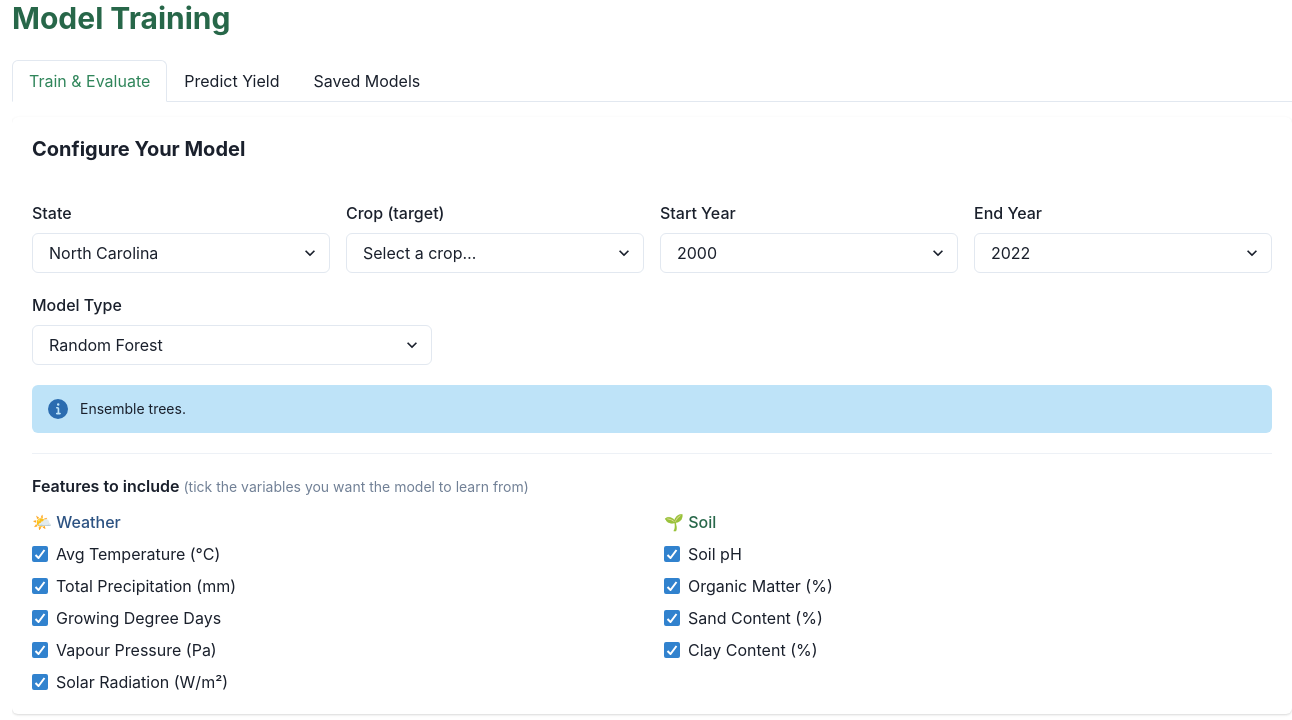
Test case: Model page – structure › shows feature importance section with feature labels
Step 1. Select "CORN" in the dropdown labelled "Crop (target)" → x=495, y=253, box x1=346 y1=233 x2=644 y2=273
(page scrolled)
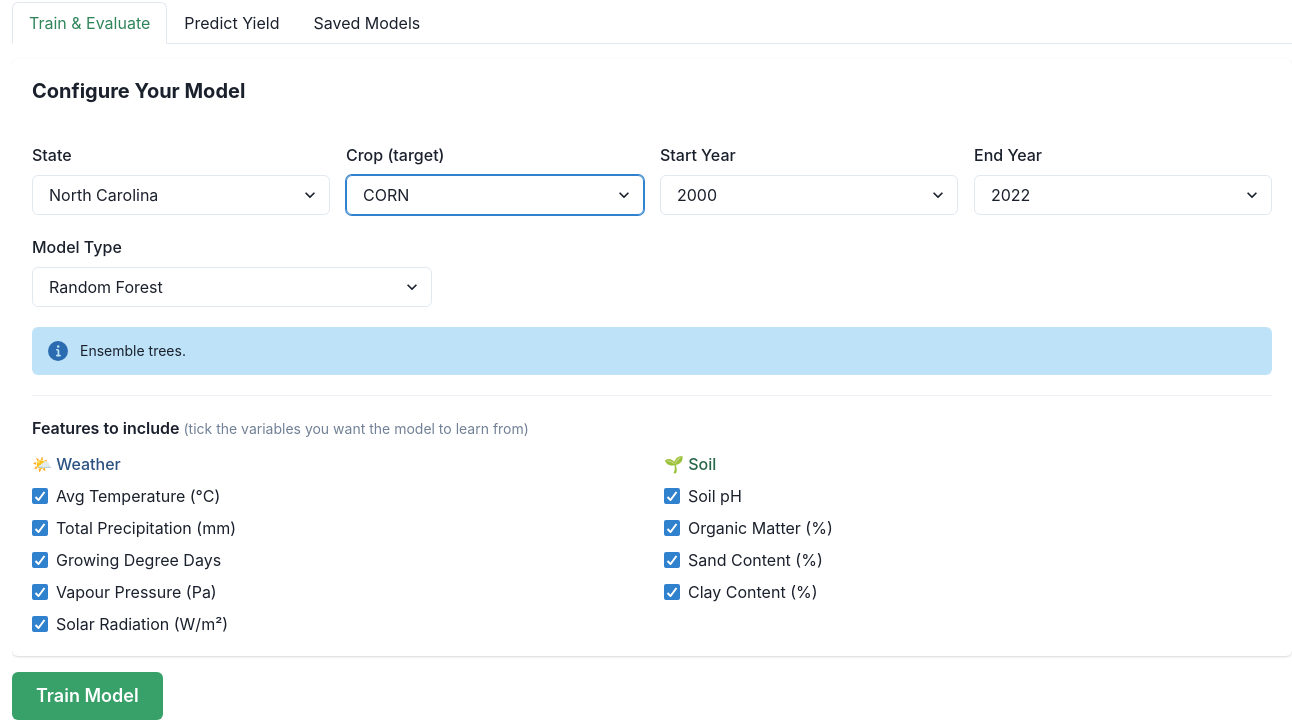
Step 2. Click the button "Train Model" → x=87, y=696, box x1=12 y1=672 x2=163 y2=719
(page scrolled)
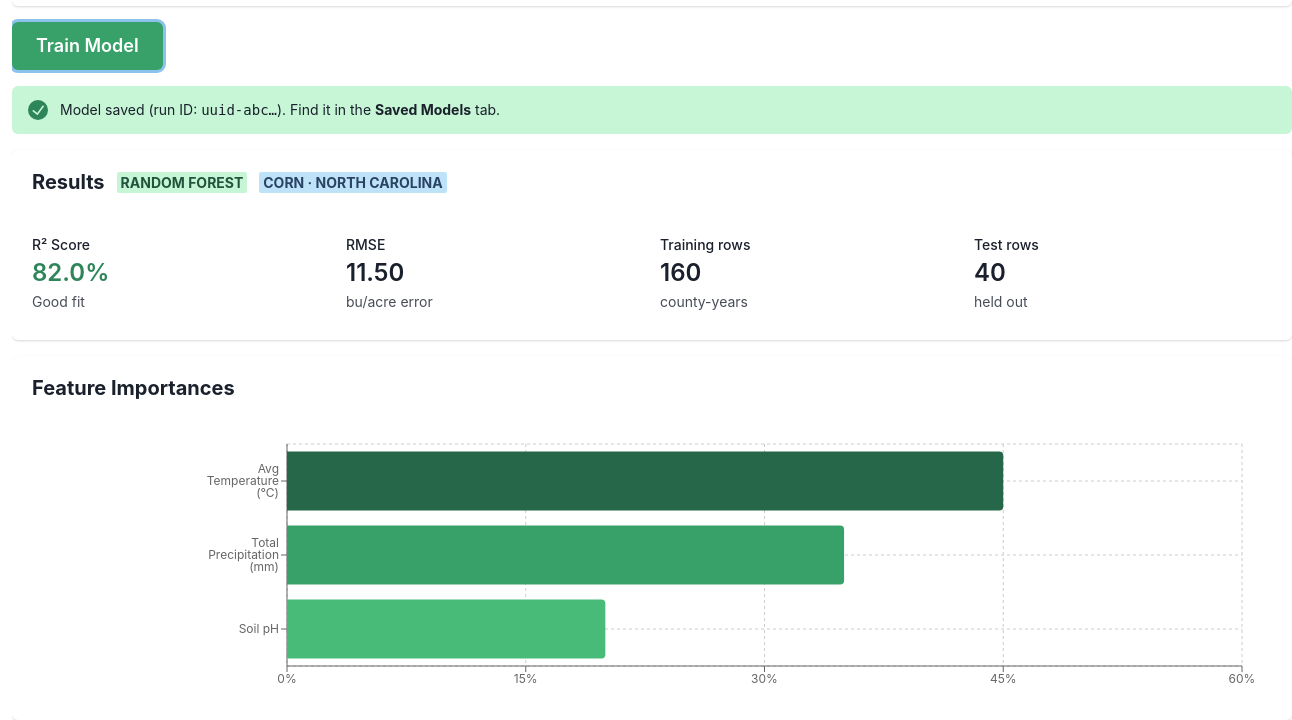
Expected: the heading "Feature Importances" is shown, x1=32 y1=376 x2=235 y2=400
